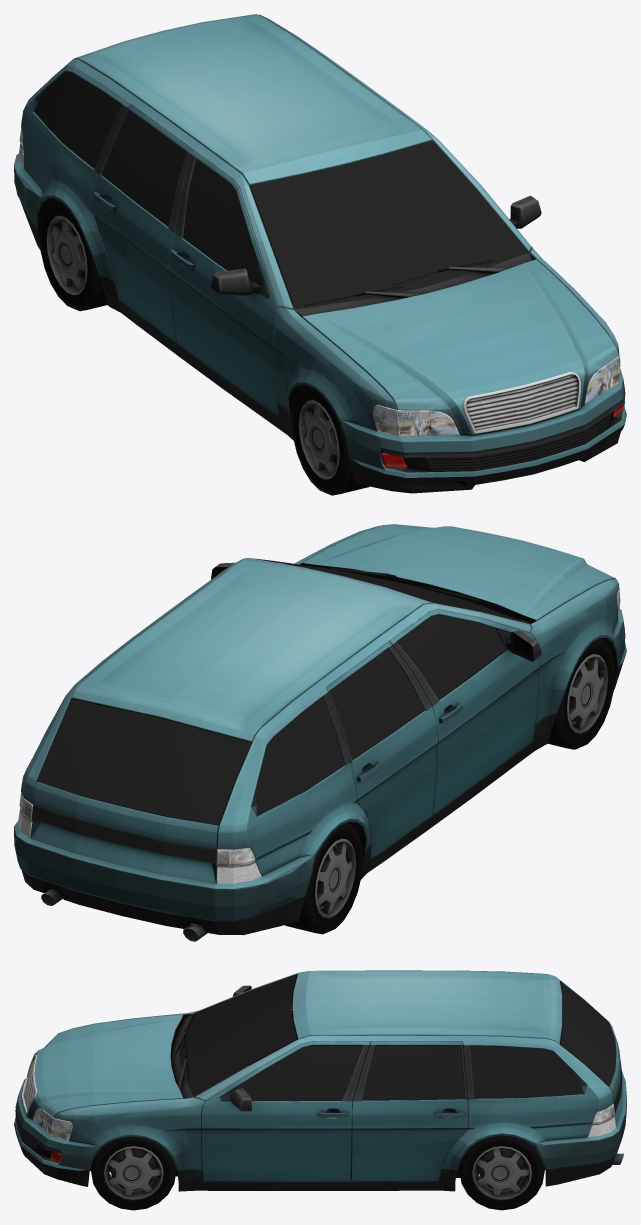
The model's file is car.fbx.
3 views of the same model, one above another, from view 1: azimuth 30°, elevation 25°; view 2: azimuth 150°, elevation 25°; view 3: azimuth 270°, elevation 25° (orthographic). The views are drawn at different scales.
Parts seen in each view (by area): view 1: Object039, windows, Wheel_A002, Wheel_A003; view 2: Object039, windows, Wheel_A003, Wheel_A002, Object046; view 3: Object039, windows, Wheel_A001, Wheel_A.
Part boxes in pixels (<box>): Object039: <box>14,14,626,493</box>; windows: <box>34,71,528,309</box>; Wheel_A002: <box>291,385,369,495</box>; Wheel_A003: <box>39,199,107,311</box>; Object039: <box>14,524,626,941</box>; windows: <box>37,558,527,824</box>; Wheel_A003: <box>285,822,363,934</box>; Wheel_A002: <box>548,638,615,749</box>; Object046: <box>264,873,292,905</box>; Object039: <box>14,970,626,1191</box>; windows: <box>179,974,616,1101</box>; Wheel_A001: <box>459,1135,544,1210</box>; Wheel_A: <box>91,1136,176,1210</box>.
Size of the model in its own units: 2194 by 1462 by 4932.
Materials: 4 (3 with a texture image).
